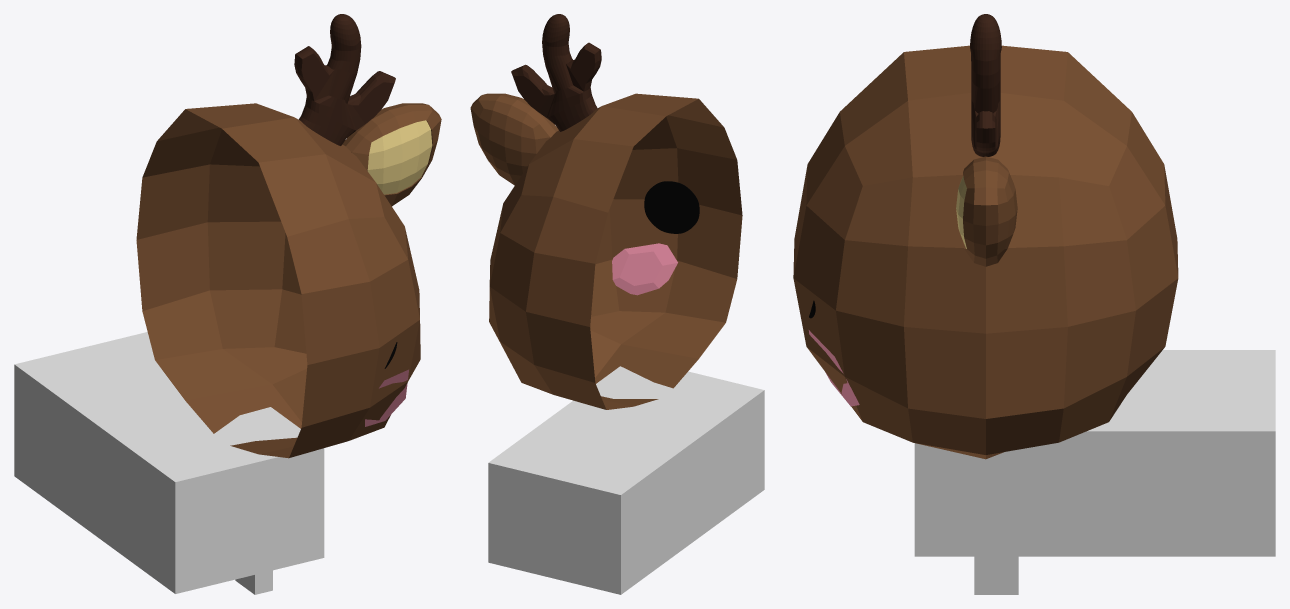
Rendered from 26-06-10 deer_blocking.glb.
The picture shows the model from 3 angles, left to right: view 1: azimuth 30°, elevation 25°; view 2: azimuth 150°, elevation 25°; view 3: azimuth 270°, elevation 25°; orthographic projection. The views are drawn at different scales.
Parts seen in each view (by area): view 1: Cube, Cube.001, Cylinder.002, Cube.002, Plane.001, Cube.003; view 2: Cube, Cube.001, Cylinder.002, Cube.002, Plane.001, Plane.002; view 3: Cube, Cube.001, Cube.002, Cylinder.002, Cube.003.
Boxes of the visible parts, x1,y1,x2,y2 form: Cube: (136,103,420,458); Cube.001: (14,332,324,593); Cylinder.002: (294,14,395,145); Cube.002: (342,103,441,206); Plane.001: (365,369,408,426); Cube.003: (235,570,272,594); Cube: (489,93,742,409); Cube.001: (488,366,764,594); Cylinder.002: (511,14,601,131); Cube.002: (470,93,558,185); Plane.001: (612,243,677,295); Plane.002: (644,181,699,233); Cube: (793,45,1178,459); Cube.001: (914,350,1275,556); Cube.002: (956,156,1017,266); Cylinder.002: (970,14,1001,156); Cube.003: (974,556,1018,594).
Bounding box in the file's own units: 3.94 × 7.05 × 4.97.
